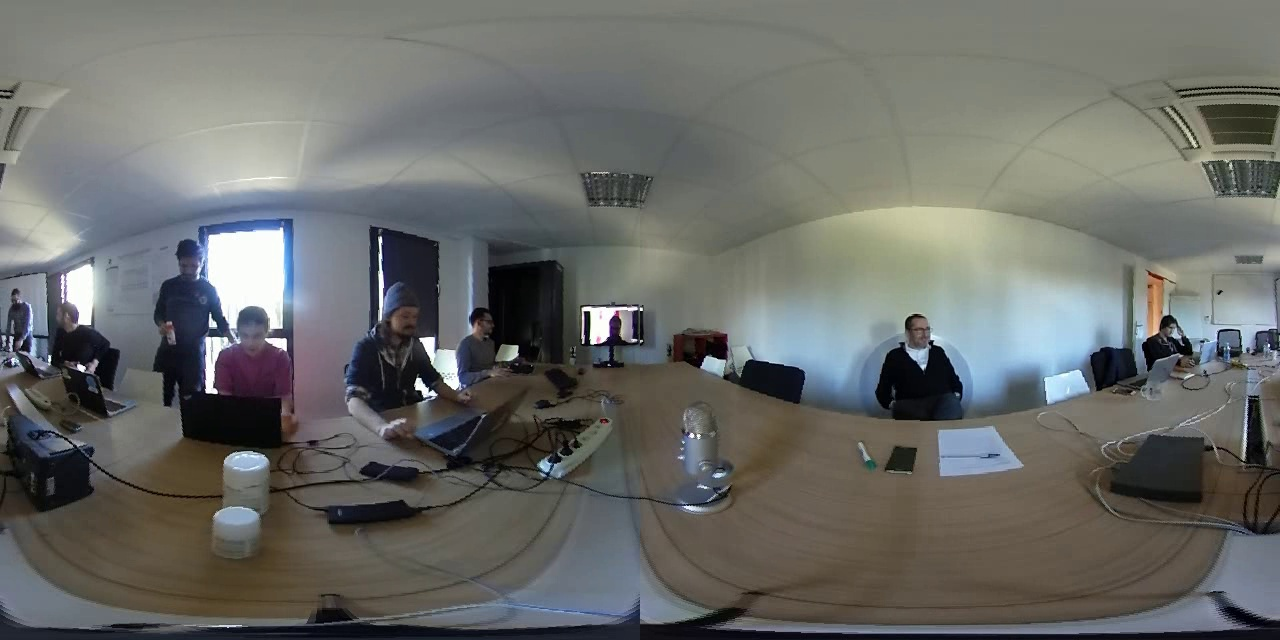person: (864, 300, 976, 421), (140, 236, 222, 380), (345, 271, 426, 406), (217, 298, 291, 406), (446, 285, 510, 385), (48, 295, 102, 365), (1145, 310, 1199, 362), (5, 276, 41, 354), (587, 309, 638, 347)
